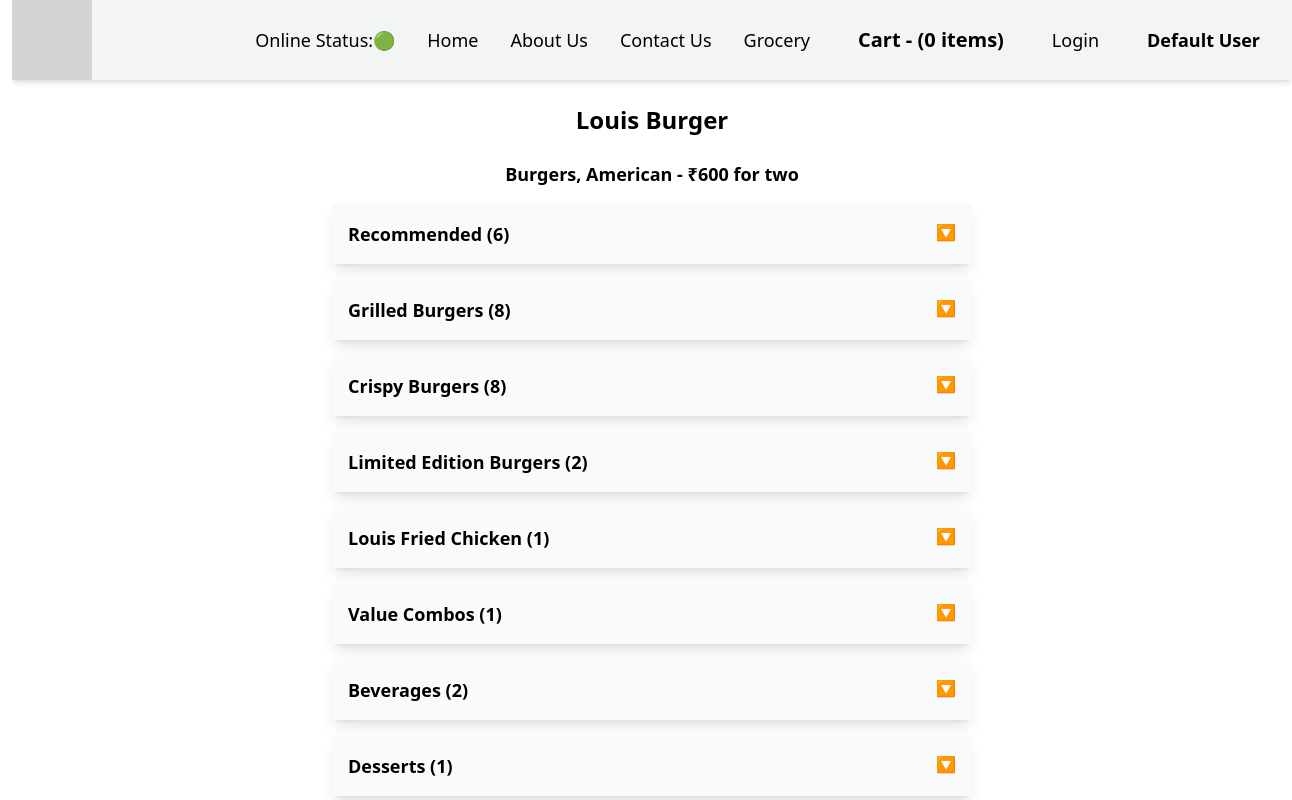
Should load Restaurant Menu Component
Click the text "Crispy Burgers (8)".
click(427, 386)  # box [348,372,506,400]
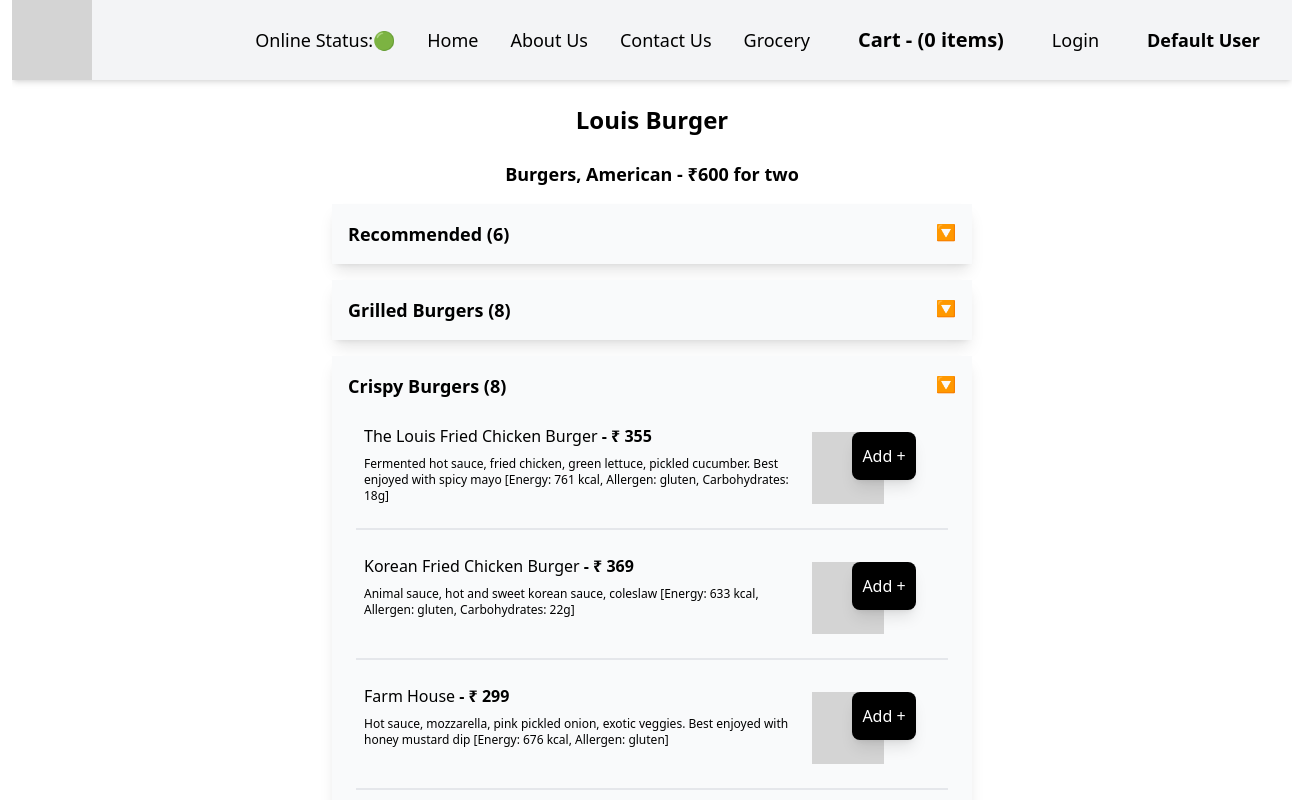
Now the number of elements with test id "foodItems" is 8
Click the button "Add +" in the row of "The Louis Fried Chicken Burger".
click(884, 456)  # box [852,432,916,480]
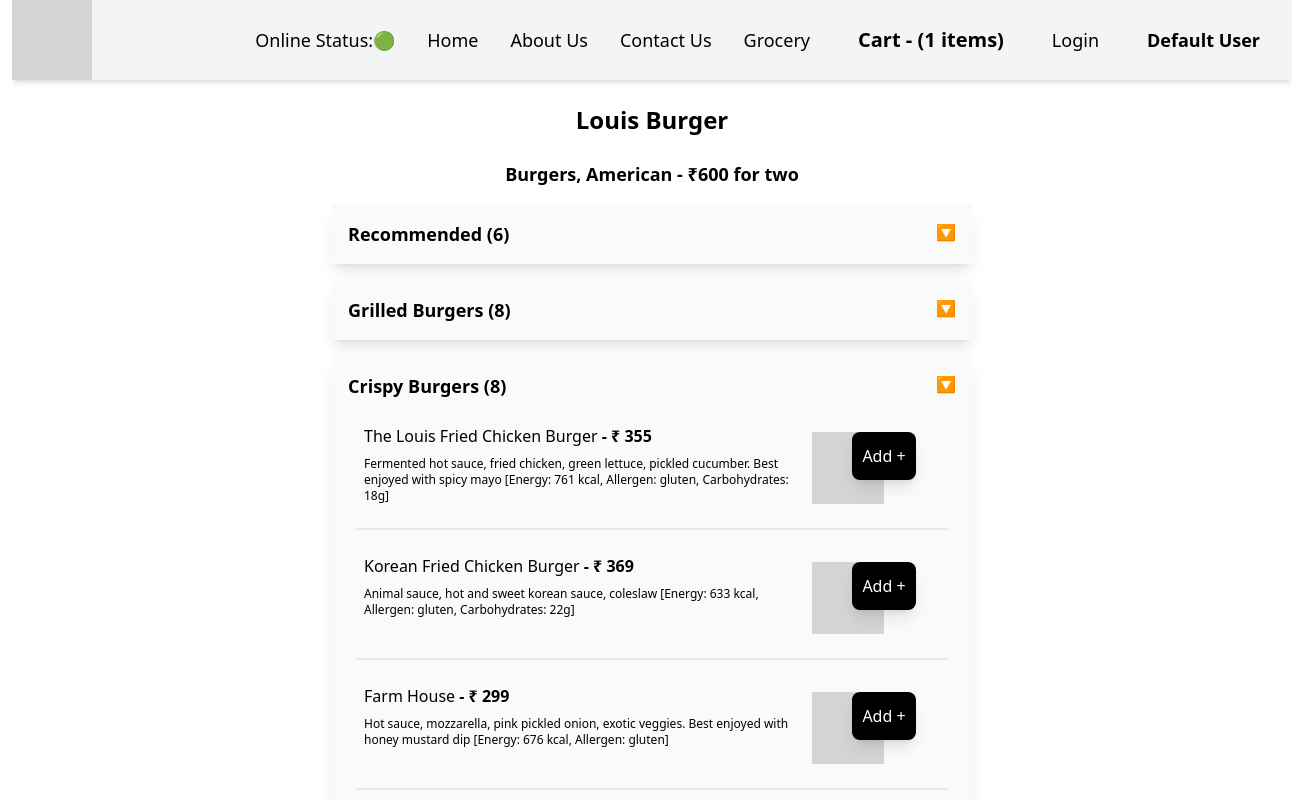
Now the link "Cart - (1 items)" is shown, box [858,26,1004,53]
Click the button "Add +" in the row of "369".
click(884, 586)  # box [852,562,916,610]
(page scrolled)
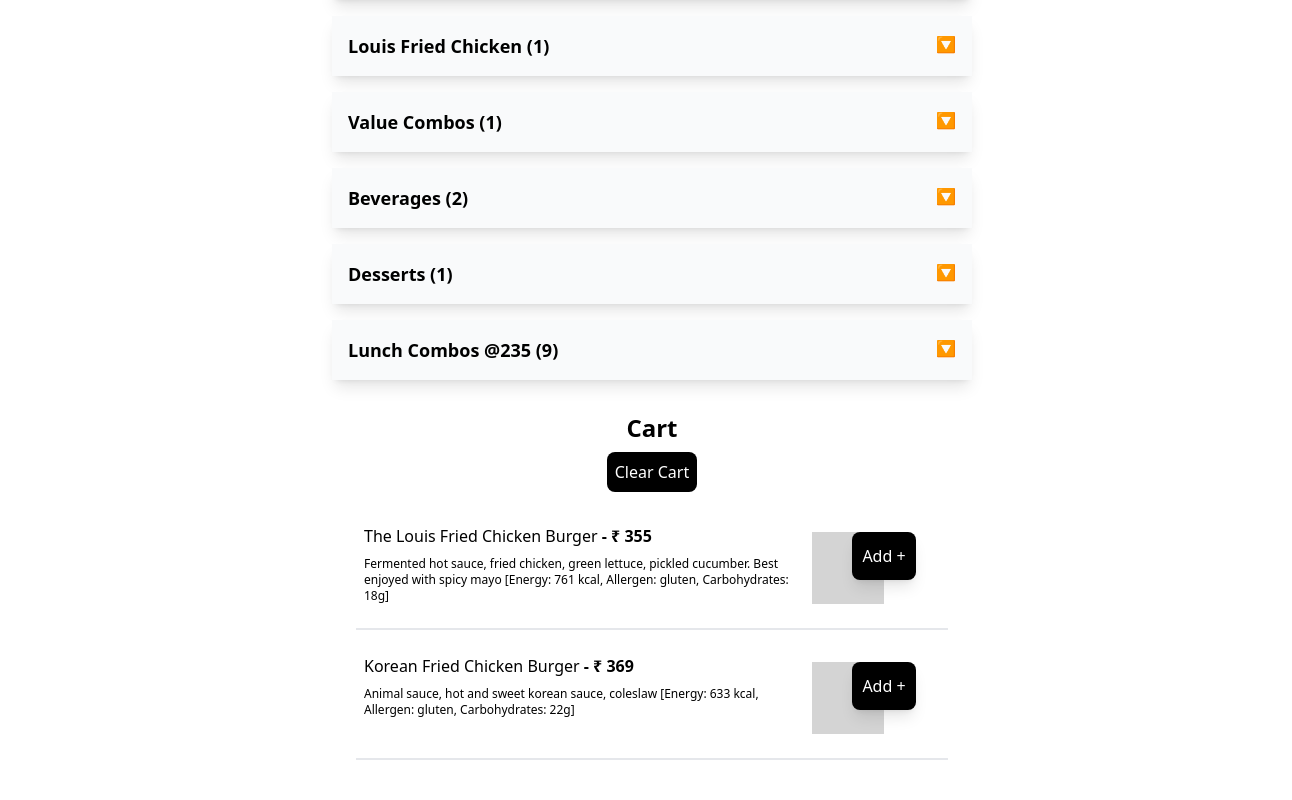
Click the button "Clear Cart".
click(652, 472)  # box [607,452,697,492]
(page scrolled)
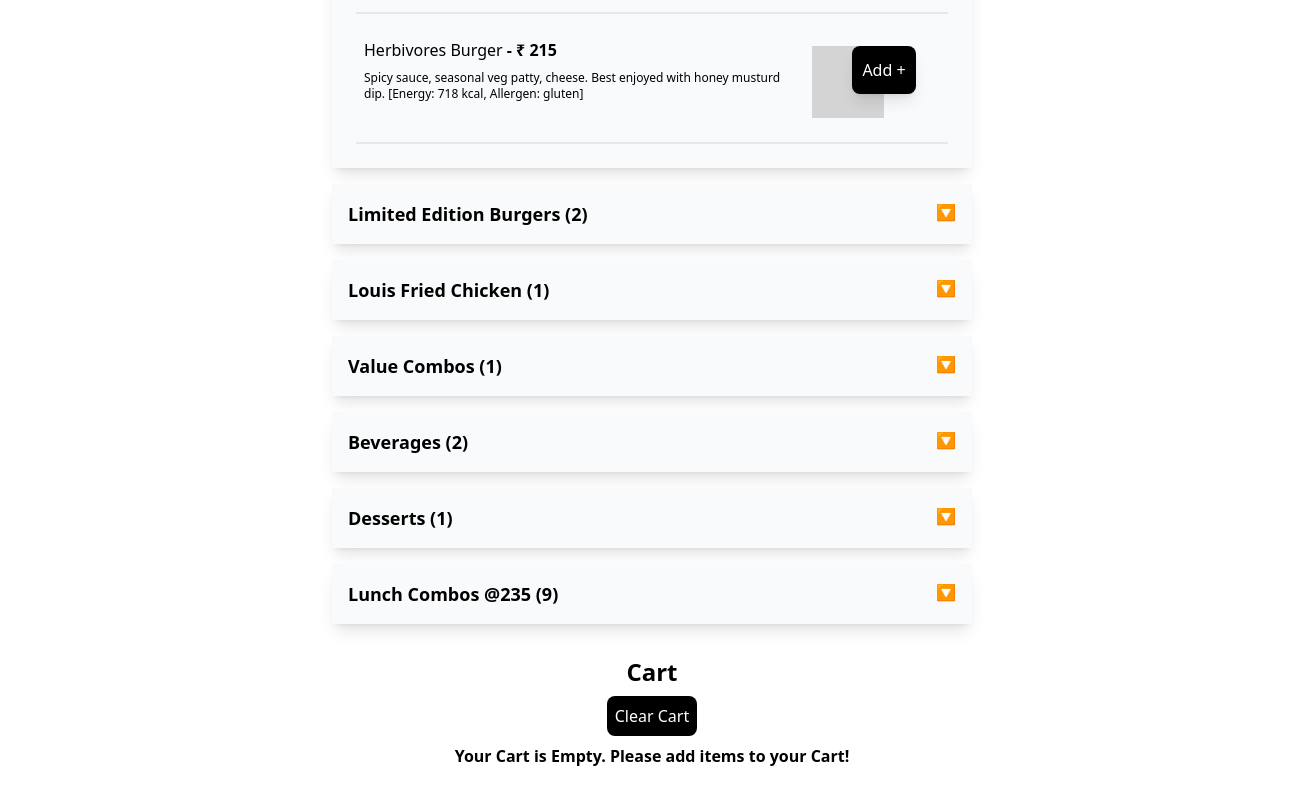
Now the number of elements with test id "foodItems" is 8
Now the heading "Your Cart is Empty. Please add items to your Cart!" is shown, box [455,745,849,767]
